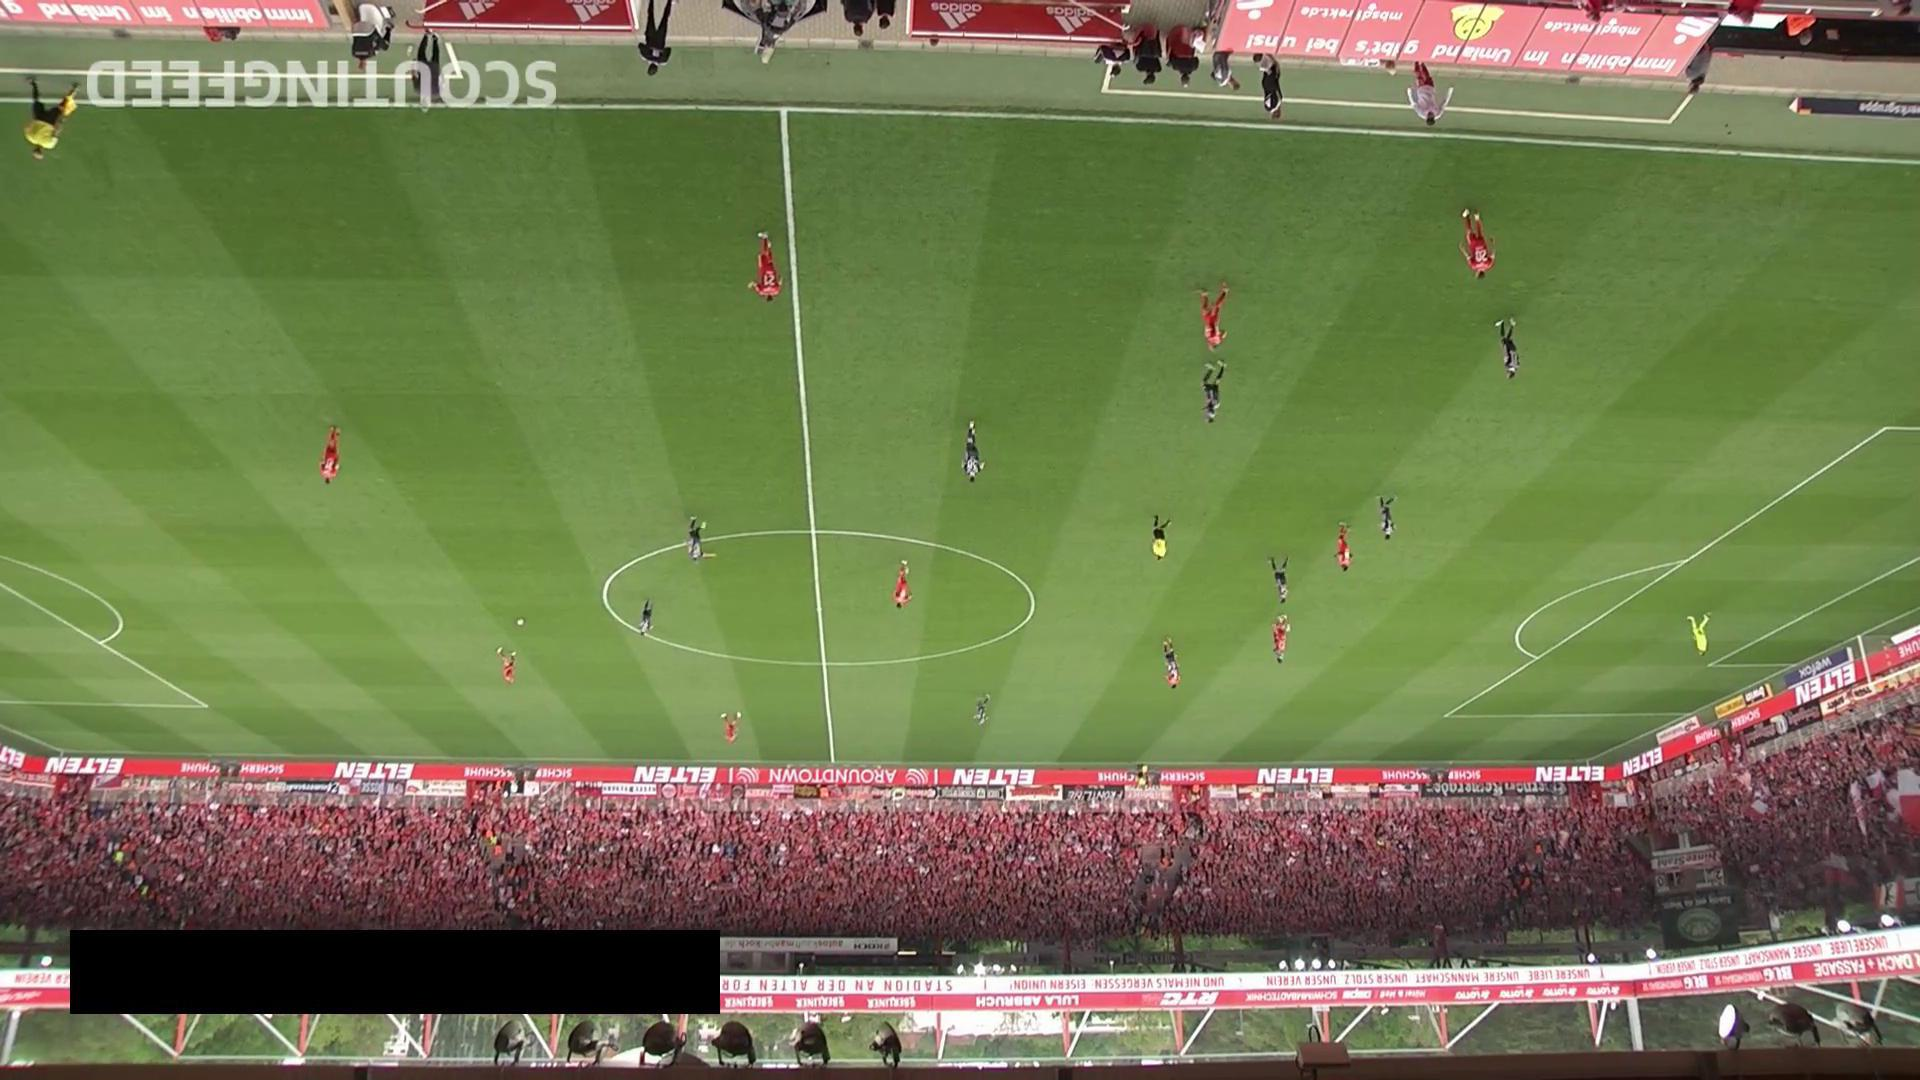ball: (515, 616, 525, 627)
goalkeeper: (1687, 613, 1712, 657)
player: (1459, 208, 1497, 281), (1194, 281, 1229, 353), (749, 231, 782, 305), (1200, 360, 1226, 424), (1494, 317, 1520, 380), (961, 420, 986, 484), (319, 425, 341, 486), (1268, 555, 1289, 604), (893, 559, 913, 610), (686, 515, 706, 563), (1335, 523, 1353, 573), (1378, 495, 1397, 541), (1273, 626, 1292, 667), (497, 647, 517, 684), (720, 711, 742, 744), (1166, 645, 1181, 692), (1271, 615, 1289, 654), (1162, 636, 1178, 678), (638, 598, 653, 637), (973, 695, 990, 727)
referee: (22, 76, 78, 161), (1151, 515, 1171, 562), (1136, 763, 1150, 796)
